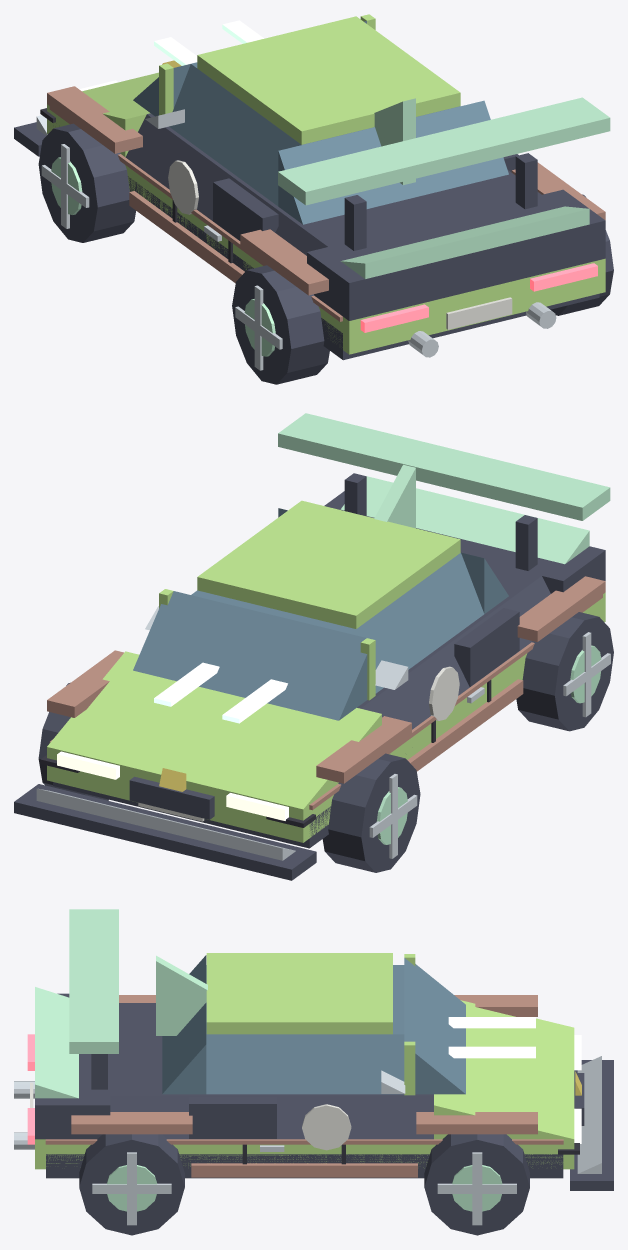
The model's file is pole_position.glb.
The picture shows the model from 3 angles, top to bottom: view 1: azimuth 30°, elevation 25°; view 2: azimuth 150°, elevation 25°; view 3: azimuth 270°, elevation 25°; orthographic projection. The views are drawn at different scales.
Parts seen in each view (by area): view 1: Roof.295, Tail.095, RearWing.058, Body.295, CabinSideL.092, RearWindow.195, Wheel_RL.255, Wheel_FL.255, BodyUpper.092, Ducktail.067, ShoulderL.092, Arch-1False.171 (+28 smaller); view 2: Nose.092, Roof.295, Windshield.195, RearWing.058, Body.295, CabinSideL.092, Splitter.062, Wheel_FL.255, Wheel_RL.255, Ducktail.067, ShoulderL.092, Bumper.291 (+27 smaller); view 3: Roof.295, CabinSideR.092, Nose.092, RearWing.058, ShoulderR.092, Wheel_FR.255, Wheel_RR.255, Windshield.195, Sill.291, BodyUpper.092, Body.295, Ducktail.067 (+23 smaller).
Part boxes in pixels (x1,y1,x2,y2): Roof.295: [197, 16, 460, 144]; Tail.095: [307, 189, 605, 320]; RearWing.058: [278, 97, 610, 205]; Body.295: [47, 104, 605, 354]; CabinSideL.092: [169, 64, 301, 206]; RearWindow.195: [278, 100, 508, 224]; Wheel_RL.255: [232, 265, 329, 384]; Wheel_FL.255: [38, 123, 135, 242]; BodyUpper.092: [147, 113, 541, 246]; Ducktail.067: [341, 206, 589, 279]; ShoulderL.092: [125, 114, 327, 255]; Arch-1False.171: [47, 86, 142, 153]; Nose.092: [47, 651, 381, 809]; Roof.295: [197, 500, 460, 628]; Windshield.195: [133, 591, 367, 720]; RearWing.058: [278, 413, 610, 520]; Body.295: [47, 592, 605, 842]; CabinSideL.092: [350, 553, 484, 693]; Splitter.062: [14, 784, 316, 880]; Wheel_FL.255: [322, 753, 420, 872]; Wheel_RL.255: [516, 612, 613, 731]; Ducktail.067: [340, 476, 589, 564]; ShoulderL.092: [361, 576, 550, 729]; Bumper.291: [36, 788, 295, 860]; Roof.295: [206, 953, 392, 1034]; CabinSideR.092: [206, 1034, 404, 1094]; Nose.092: [434, 1000, 574, 1139]; RearWing.058: [69, 909, 118, 1053]; ShoulderR.092: [110, 1096, 433, 1139]; Wheel_FR.255: [424, 1134, 529, 1235]; Wheel_RR.255: [79, 1134, 184, 1235]; Windshield.195: [404, 958, 465, 1094]; Sill.291: [46, 1154, 563, 1178]; BodyUpper.092: [110, 1003, 433, 1095]; Body.295: [35, 1139, 574, 1169]; Ducktail.067: [35, 987, 78, 1098].
Bounding box in the file's own units: 3.1 × 2.08 × 5.45.
